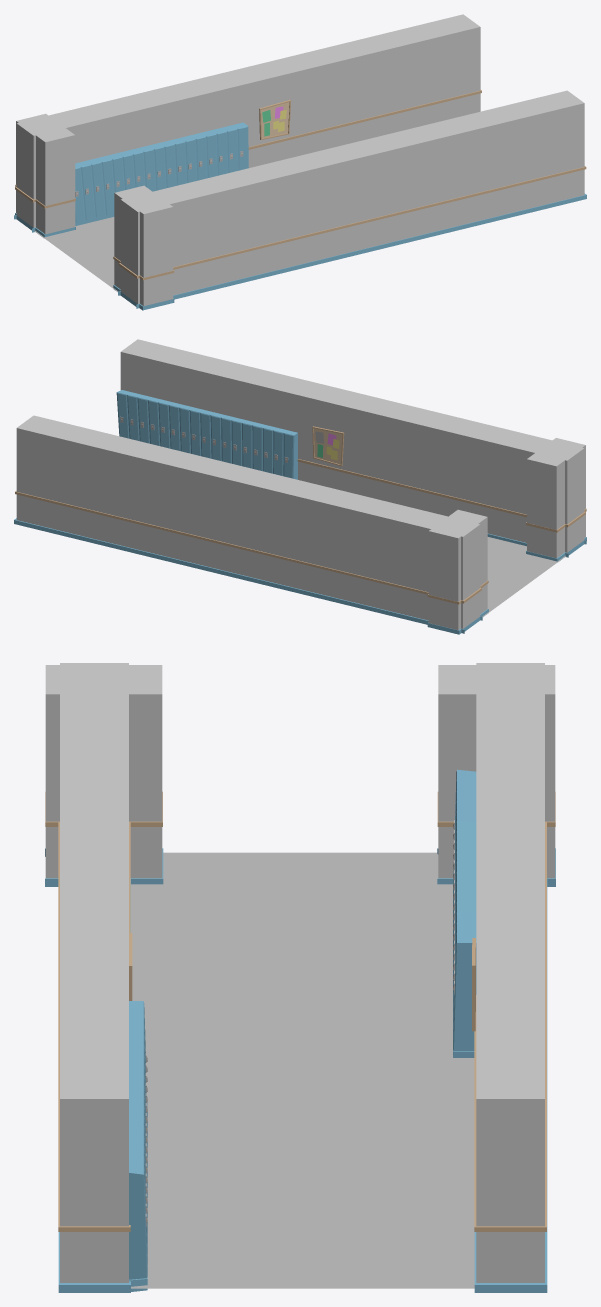
Rendered from Tile3.fbx.
3 views of the same model, one above another, from view 1: azimuth 30°, elevation 25°; view 2: azimuth 150°, elevation 25°; view 3: azimuth 270°, elevation 25° (orthographic). The views are drawn at different scales.
Visible parts, largest first — view 1: Cube.036; view 2: Cube.036; view 3: Cube.036.
Part boxes in pixels (box(x1,y1,x2,y2)): Cube.036: box(14, 14, 586, 310); Cube.036: box(14, 339, 586, 634); Cube.036: box(45, 663, 555, 1292).
Bounding box in the file's own units: 3027 × 626 × 1487.
